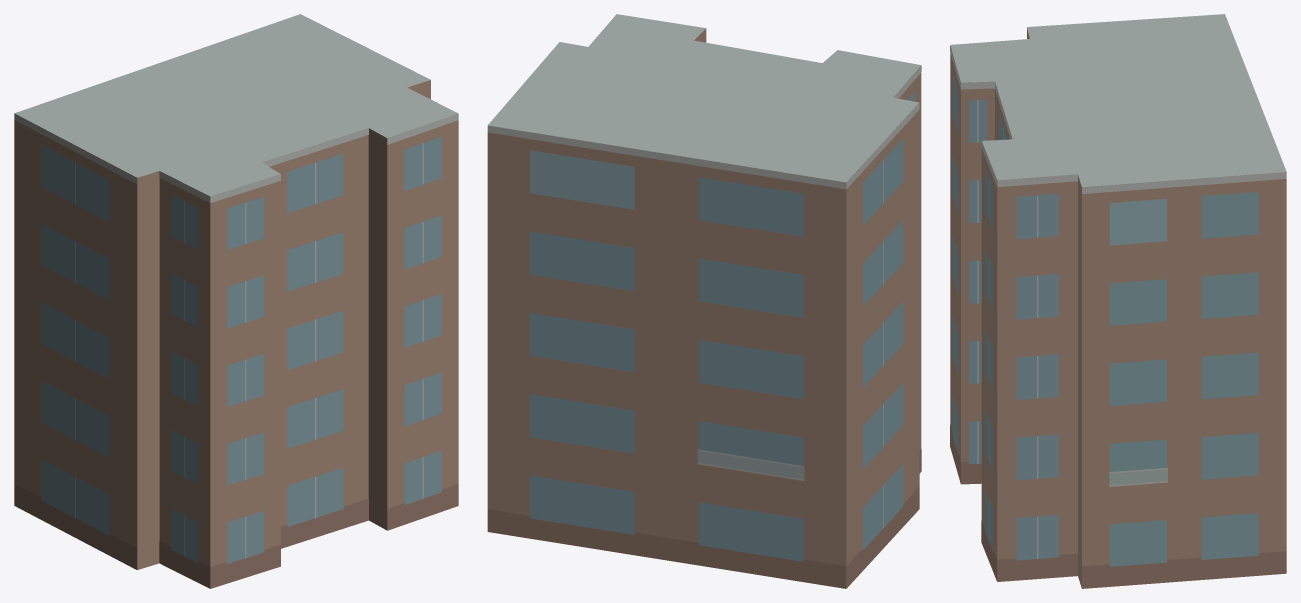
Rendered from survey-upis-32728346.glb.
3 renders of one model, left to right at view 1: azimuth 30°, elevation 25°; view 2: azimuth 150°, elevation 25°; view 3: azimuth 270°, elevation 25°, orthographic. The views are drawn at different scales.
Visible parts, largest first — view 1: survey-upis-32728346.tmp; view 2: survey-upis-32728346.tmp; view 3: survey-upis-32728346.tmp.
Part boxes in pixels (left/top/right/bottom): survey-upis-32728346.tmp: left=14, top=14, right=458, bottom=588; survey-upis-32728346.tmp: left=487, top=14, right=921, bottom=588; survey-upis-32728346.tmp: left=950, top=14, right=1286, bottom=588.
Bounding box in the file's own units: 13.24 × 14.3 × 10.87.
